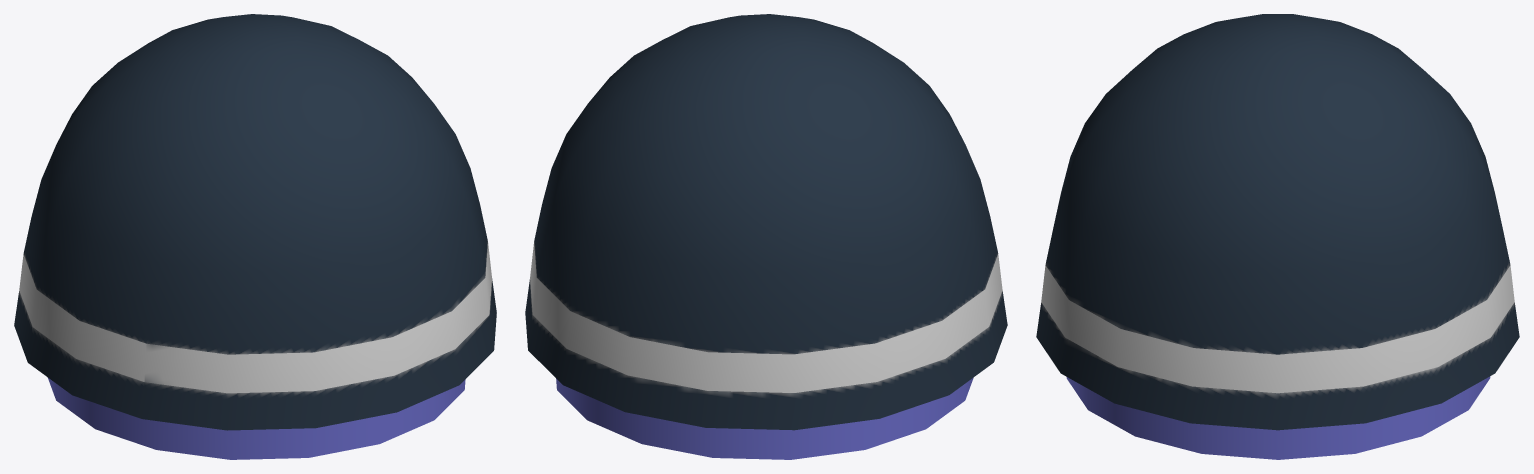
Rendered from SM_Car_04_Wheel_1.fbx.
3 views of the same model, side by side, from view 1: azimuth 30°, elevation 25°; view 2: azimuth 150°, elevation 25°; view 3: azimuth 270°, elevation 25° (orthographic).
Parts seen in each view (by area): view 1: SM_Car_04_Wheel_1; view 2: SM_Car_04_Wheel_1; view 3: SM_Car_04_Wheel_1.
Part boxes in pixels (x1=…): SM_Car_04_Wheel_1: x1=14, y1=14, x2=496, y2=459; SM_Car_04_Wheel_1: x1=525, y1=14, x2=1007, y2=459; SM_Car_04_Wheel_1: x1=1036, y1=14, x2=1519, y2=459.
Bounding box in the file's own units: 57.79 × 58.04 × 44.54.
Materials: 1 (1 with a texture image).
